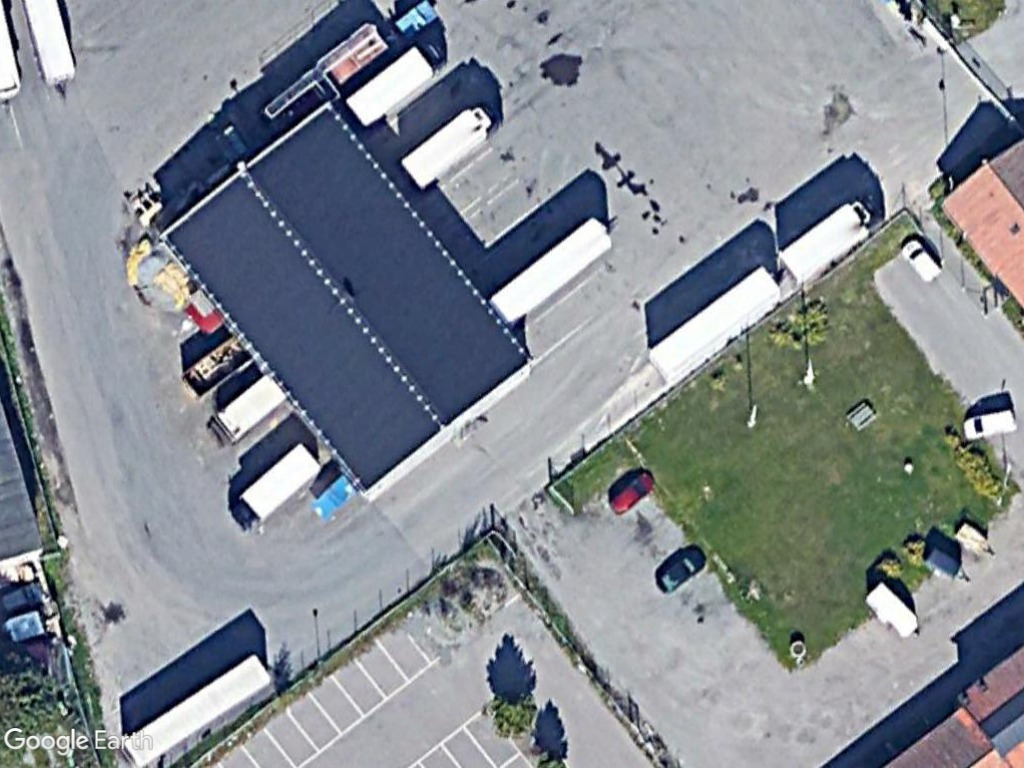car: (651, 541, 709, 600), (605, 459, 656, 518)
truck: (768, 186, 884, 288), (223, 434, 325, 538), (342, 38, 456, 130), (397, 98, 496, 193)
van: (896, 233, 947, 289), (956, 402, 1022, 444)
